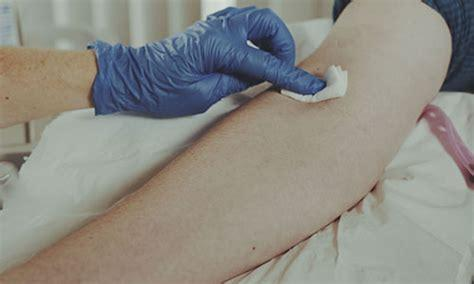cotton: (282, 63, 352, 105)
gloves: (84, 5, 325, 123)
